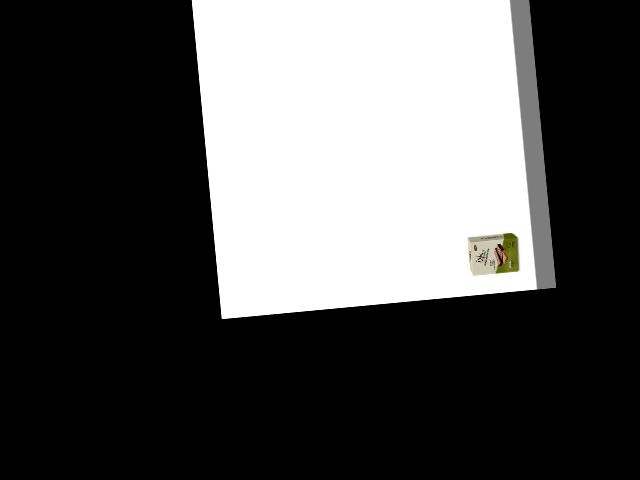chocolate: (465, 229, 523, 280)
